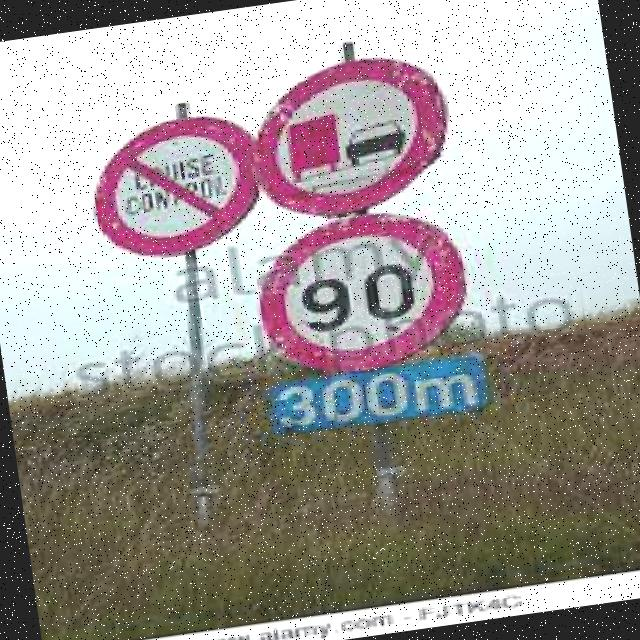Ograniczenie predkosci do 90: (258, 208, 467, 378)
